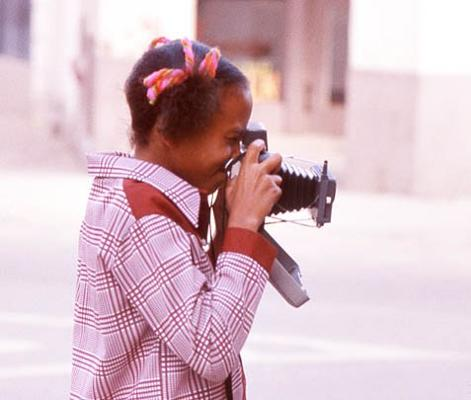person: (72, 39, 282, 400)
